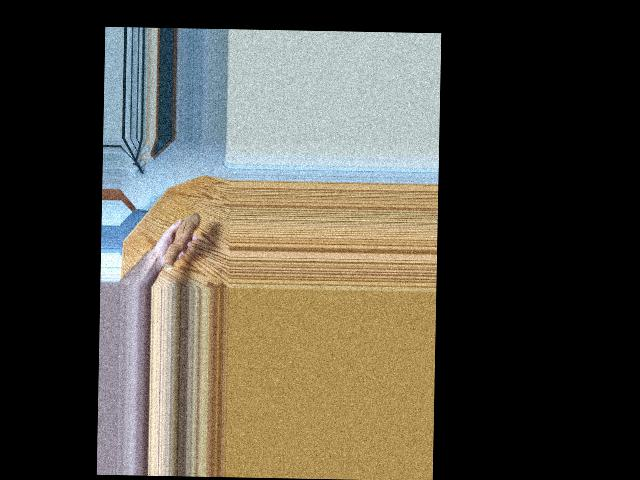sweet_potato: (159, 209, 200, 271)
